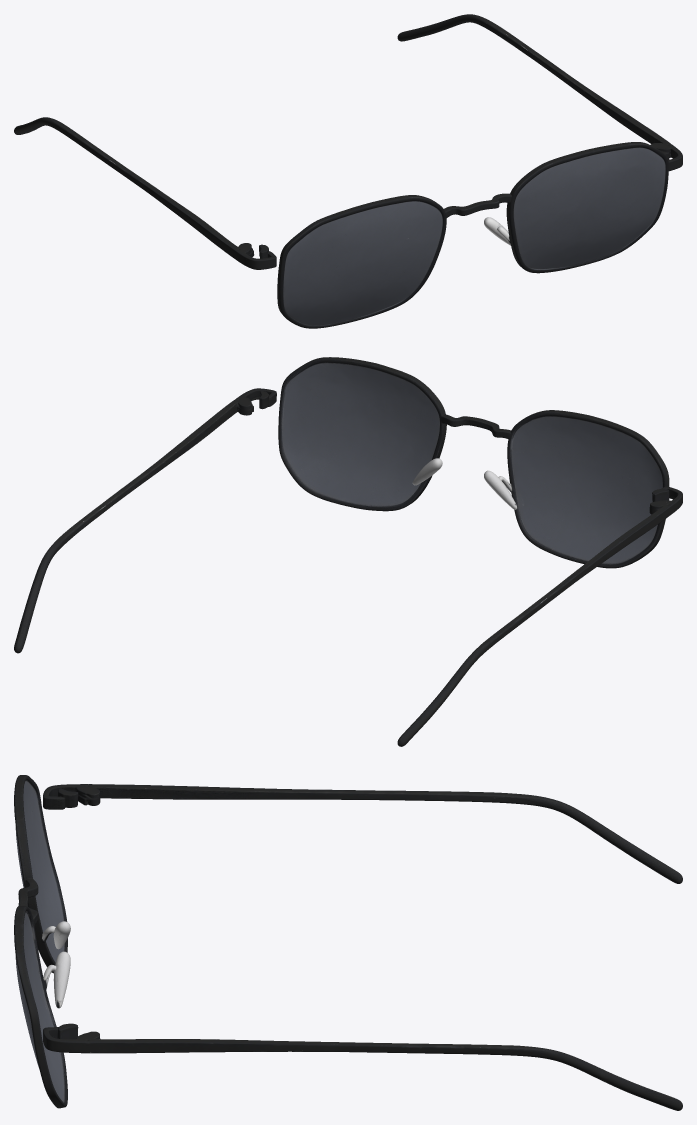
3 views of the same model, one above another, from view 1: azimuth 30°, elevation 25°; view 2: azimuth 150°, elevation 25°; view 3: azimuth 270°, elevation 25° (orthographic). The views are drawn at different scales.
Size of the model in its own units: 1.74 by 0.496 by 1.9.
Materials: 1 (1 with a texture image).
